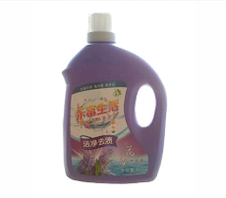ImgView: (1, 1, 225, 197)
